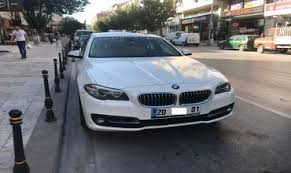car: (76, 32, 235, 131)
